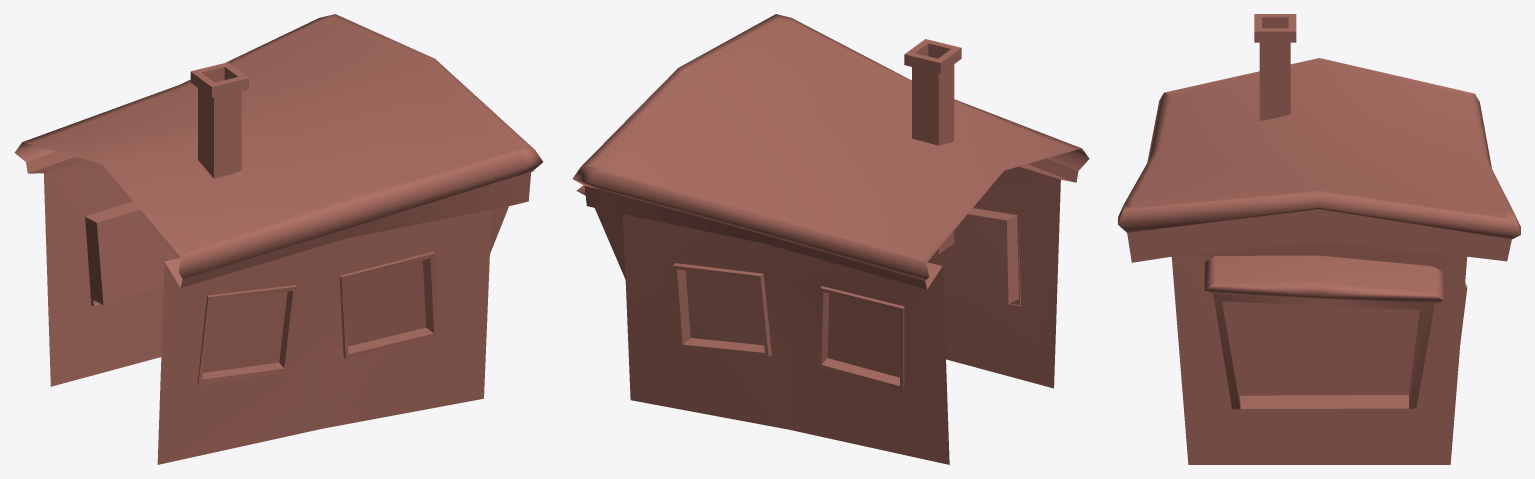
Rendered from home 2.fbx.
3 views of the same model, side by side, from view 1: azimuth 30°, elevation 25°; view 2: azimuth 150°, elevation 25°; view 3: azimuth 270°, elevation 25° (orthographic). The views are drawn at different scales.
Parts seen in each view (by area): view 1: home2; view 2: home2; view 3: home2.
Part boxes in pixels (x1,y1,x2,y2): home2: (14, 14, 542, 464); home2: (572, 14, 1089, 464); home2: (1118, 14, 1520, 464).
Bounding box in the file's own units: 77.65 × 67.45 × 73.02.
